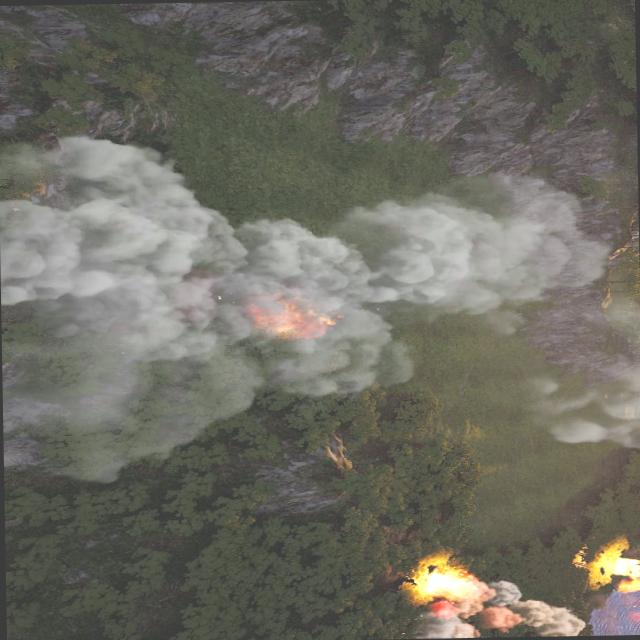fire: (247, 295, 336, 342), (411, 562, 483, 604), (606, 553, 640, 593)
smoke: (0, 125, 630, 490), (408, 580, 586, 638)
